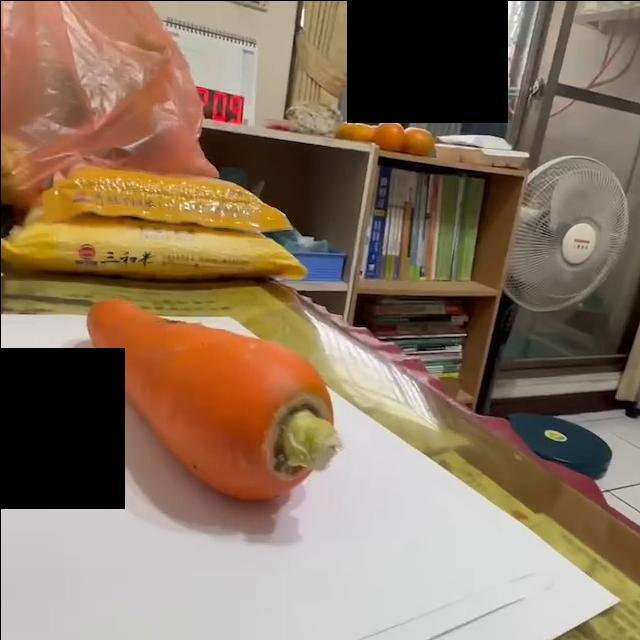carrot: (83, 298, 342, 501)
